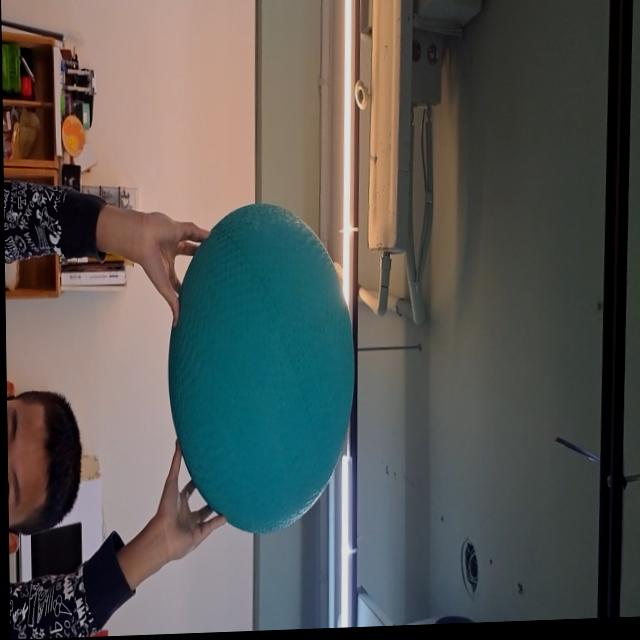ALGAE: (165, 206, 358, 537)
